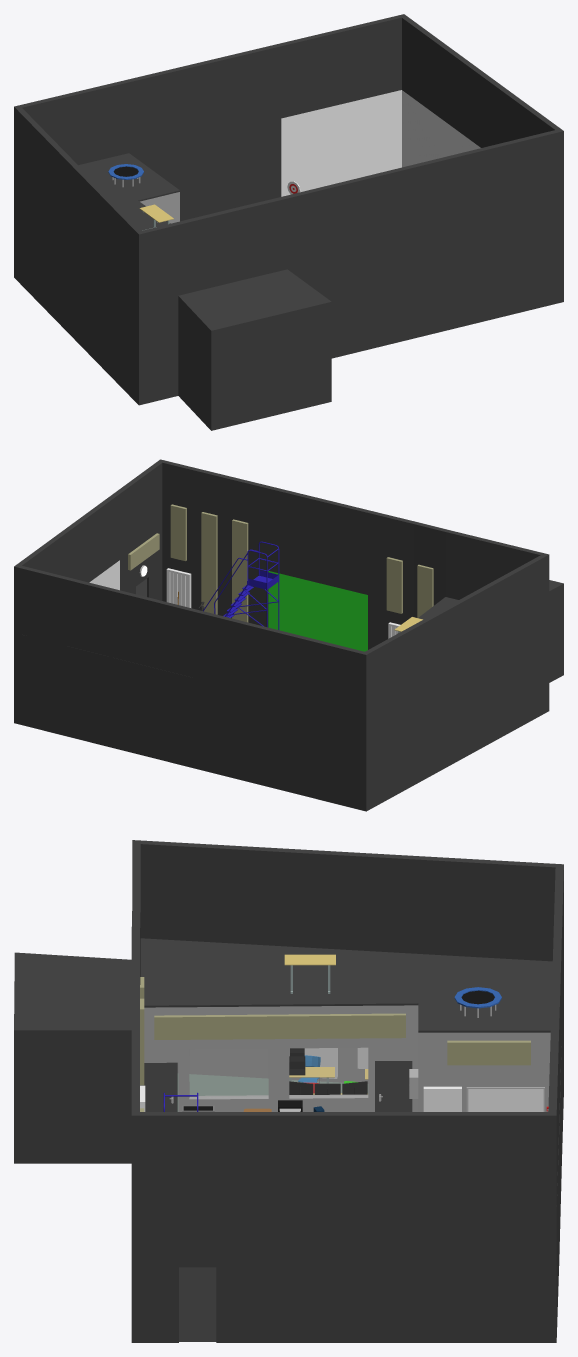
File: studio.fbx
The picture shows the model from 3 angles, top to bottom: view 1: azimuth 30°, elevation 25°; view 2: azimuth 150°, elevation 25°; view 3: azimuth 270°, elevation 25°; orthographic projection. The views are drawn at different scales.
Parts seen in each view (by area): view 1: Murs etage, Murs, Trampoline; view 2: Murs etage, Murs, Ecran vert, Cube.031, Cube.033, Cube.034, Radiateur.001, Cube.032, Cube.035, Cube.028, Cube.131, NurbsPath.014 (+1 smaller); view 3: Murs etage, Murs, Cube.030, Vitre.001, Vitre, Porte.009, Cube.036, Tableau, Porte, Sol, Porte.006, Radiateur.003 (+2 smaller).
Part boxes in pixels (bbox=[...]): Murs etage: bbox=[14, 14, 563, 332]; Murs: bbox=[14, 90, 563, 430]; Trampoline: bbox=[108, 164, 143, 187]; Murs etage: bbox=[14, 459, 563, 720]; Murs: bbox=[14, 529, 563, 811]; Ecran vert: bbox=[268, 571, 367, 651]; Cube.031: bbox=[201, 512, 217, 568]; Cube.033: bbox=[170, 504, 186, 561]; Cube.034: bbox=[386, 557, 402, 613]; Radiateur.001: bbox=[166, 568, 191, 607]; Cube.032: bbox=[232, 519, 248, 576]; Cube.035: bbox=[417, 564, 433, 617]; Cube.028: bbox=[201, 565, 217, 614]; Cube.131: bbox=[128, 533, 159, 570]; NurbsPath.014: bbox=[225, 541, 279, 629]; Murs etage: bbox=[14, 840, 563, 1211]; Murs: bbox=[14, 966, 563, 1342]; Cube.030: bbox=[154, 1013, 405, 1039]; Vitre.001: bbox=[290, 1048, 367, 1096]; Vitre: bbox=[190, 1049, 267, 1097]; Porte.009: bbox=[179, 1267, 216, 1341]; Cube.036: bbox=[447, 1040, 530, 1065]; Tableau: bbox=[466, 1087, 544, 1111]; Porte: bbox=[375, 1061, 412, 1111]; Sol: bbox=[177, 1073, 368, 1111]; Porte.006: bbox=[141, 1062, 177, 1111]; Radiateur.003: bbox=[423, 1086, 461, 1111].
Size of the model in its own units: 1561 by 600 by 1316.
